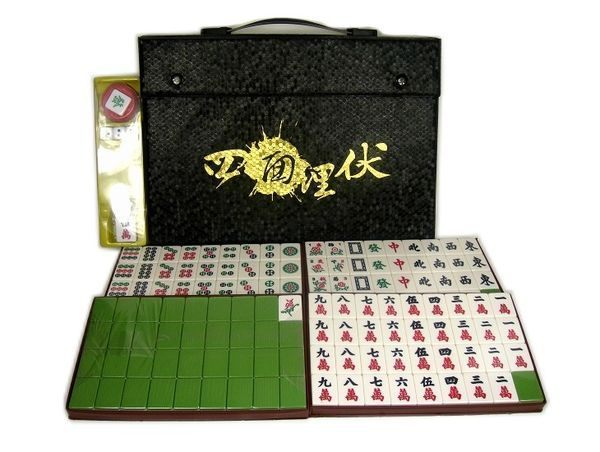1W: (499, 318, 522, 344), (493, 292, 513, 316), (510, 345, 529, 369)
1i: (281, 295, 302, 322)
1o: (280, 257, 300, 276), (280, 276, 300, 295), (279, 243, 300, 259)
2W: (492, 368, 516, 402), (469, 290, 492, 317), (475, 318, 500, 341), (486, 342, 507, 369)
2o: (263, 243, 277, 262), (262, 259, 277, 276), (262, 279, 278, 293)
3W: (459, 342, 484, 371), (469, 370, 489, 402), (456, 316, 477, 343), (450, 293, 473, 317)
3o: (240, 259, 259, 278), (241, 243, 258, 261), (239, 276, 255, 294)
4W: (443, 371, 468, 401), (436, 343, 458, 372), (431, 320, 453, 344), (426, 294, 446, 318)
4o: (220, 261, 234, 278), (217, 280, 234, 294), (222, 245, 238, 259)
5W: (414, 369, 440, 400), (413, 343, 433, 372), (408, 317, 429, 344), (402, 293, 423, 316)
5o: (199, 261, 216, 278), (201, 245, 218, 260), (196, 280, 212, 294)
6W: (383, 318, 404, 346), (379, 291, 401, 316), (392, 374, 412, 401), (390, 346, 409, 372)
6o: (175, 279, 191, 295), (179, 262, 194, 278), (182, 246, 196, 261)
7W: (360, 316, 379, 344), (365, 345, 384, 372), (359, 293, 379, 318), (368, 373, 385, 401)
7o: (156, 261, 175, 281), (153, 279, 172, 298), (161, 245, 179, 262)
8W: (336, 343, 360, 373), (341, 373, 361, 404), (334, 293, 353, 318), (337, 319, 354, 344)
8o: (130, 279, 151, 298), (136, 262, 154, 280), (142, 246, 159, 261)
9W: (315, 373, 336, 406), (312, 345, 334, 372), (311, 319, 331, 344), (314, 293, 332, 319)
9o: (113, 260, 136, 280), (109, 280, 132, 298), (119, 244, 141, 261)
East: (468, 252, 488, 271), (462, 236, 481, 253), (476, 270, 495, 287)
Green: (370, 256, 390, 272), (375, 274, 393, 291), (367, 240, 384, 255)
North: (416, 271, 436, 287), (410, 254, 429, 270), (406, 240, 424, 254)
Red: (395, 270, 414, 290), (385, 239, 404, 255), (390, 255, 409, 270)
South: (437, 271, 453, 289), (430, 255, 449, 270), (425, 239, 443, 253)
West: (456, 271, 476, 288), (450, 254, 468, 270), (443, 239, 459, 252)
White: (353, 272, 375, 294), (350, 255, 369, 273), (346, 240, 366, 256)
